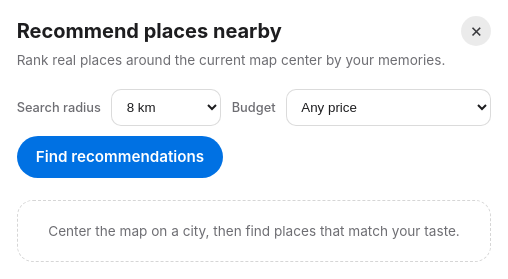
Test: NearbyRecommendationsModal › shows a network failure instead of crashing
Click the button "Find recommendations".
click(120, 157)  # box top-left (17, 136), bottom-right (223, 178)
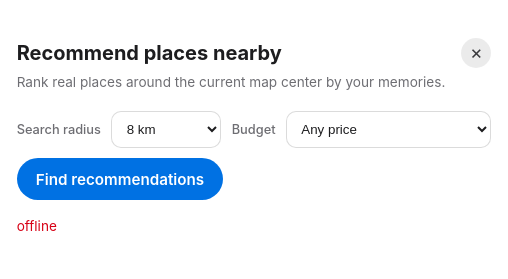
Now the text "offline" is shown, box top-left (17, 218), bottom-right (57, 234)
